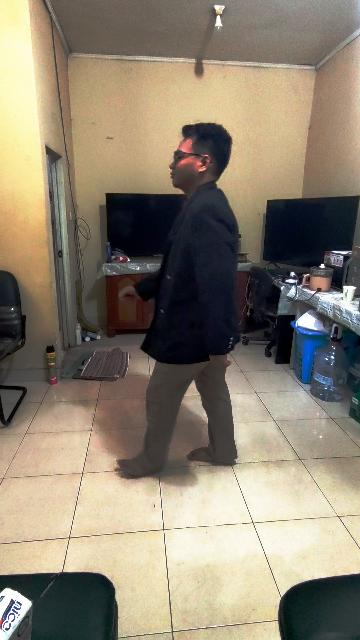berjalan: (118, 118, 238, 486)
